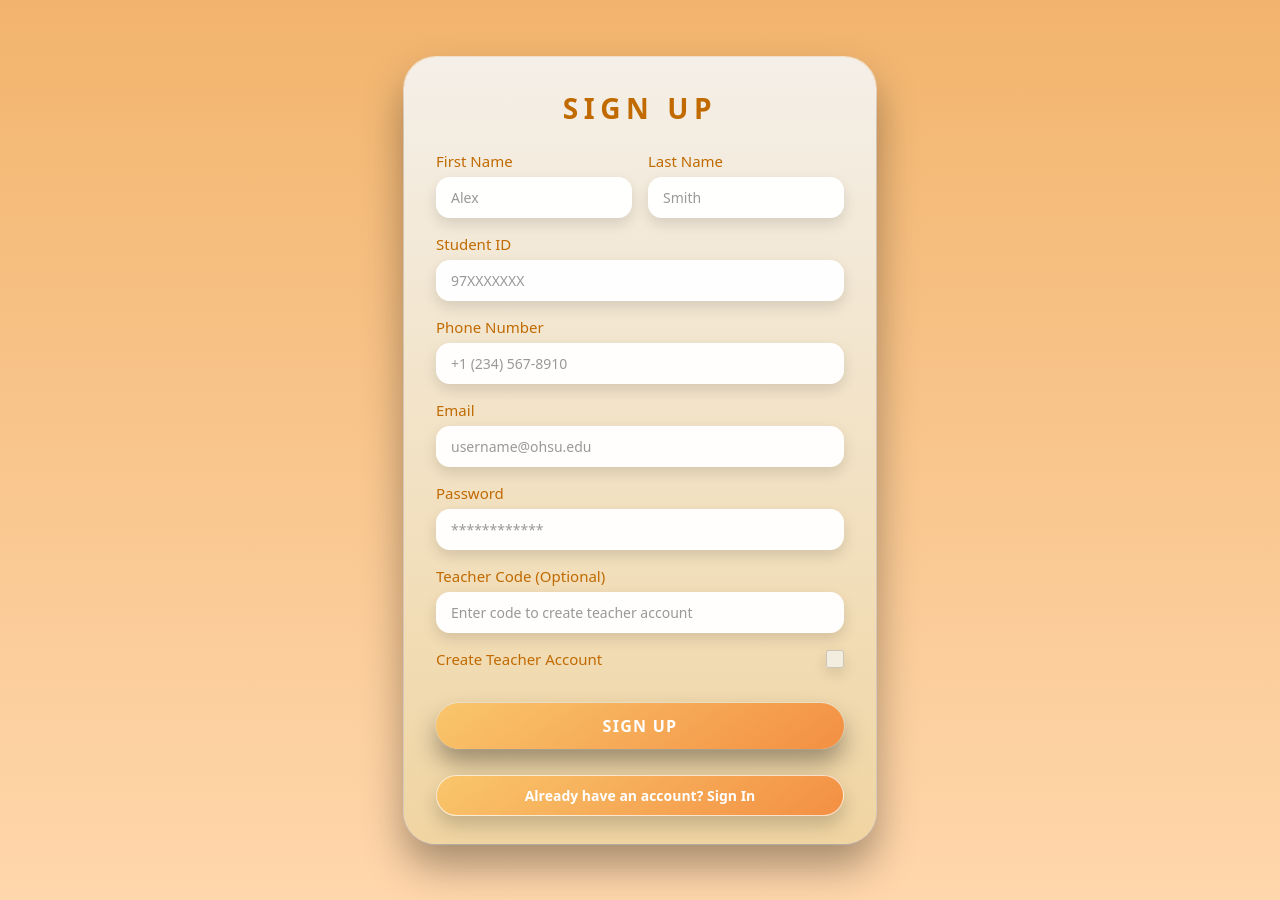
it: SignUpPage › shows teacher code error when clicking checkbox with wrong code
Note: Enter wrong teacher code
Type "wrongcode" into the field labelled "Teacher Code (Optional)" at (640, 612), box [436,592,844,632]
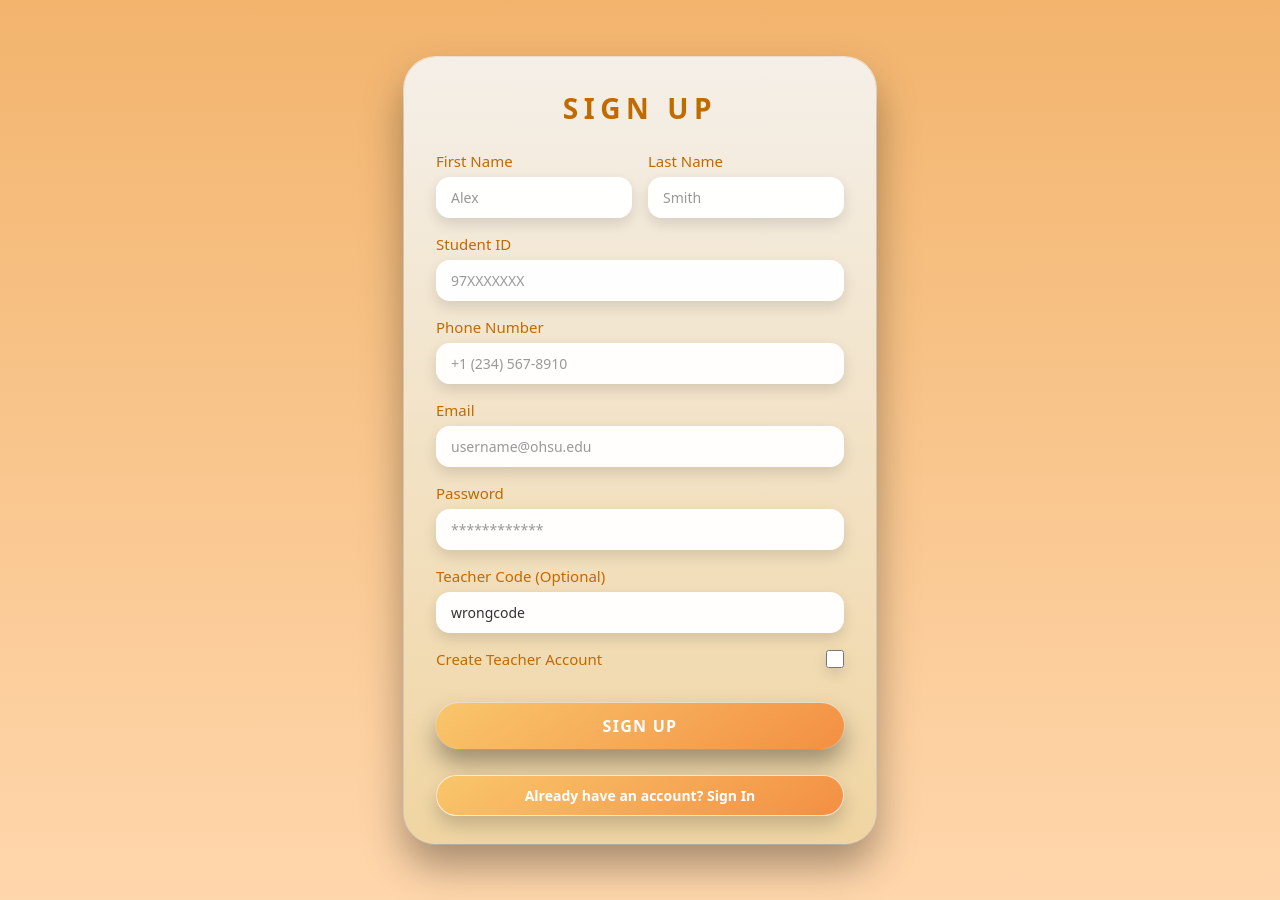
Click the checkbox labelled "Create Teacher Account" at (835, 658), box [826,650,844,668]
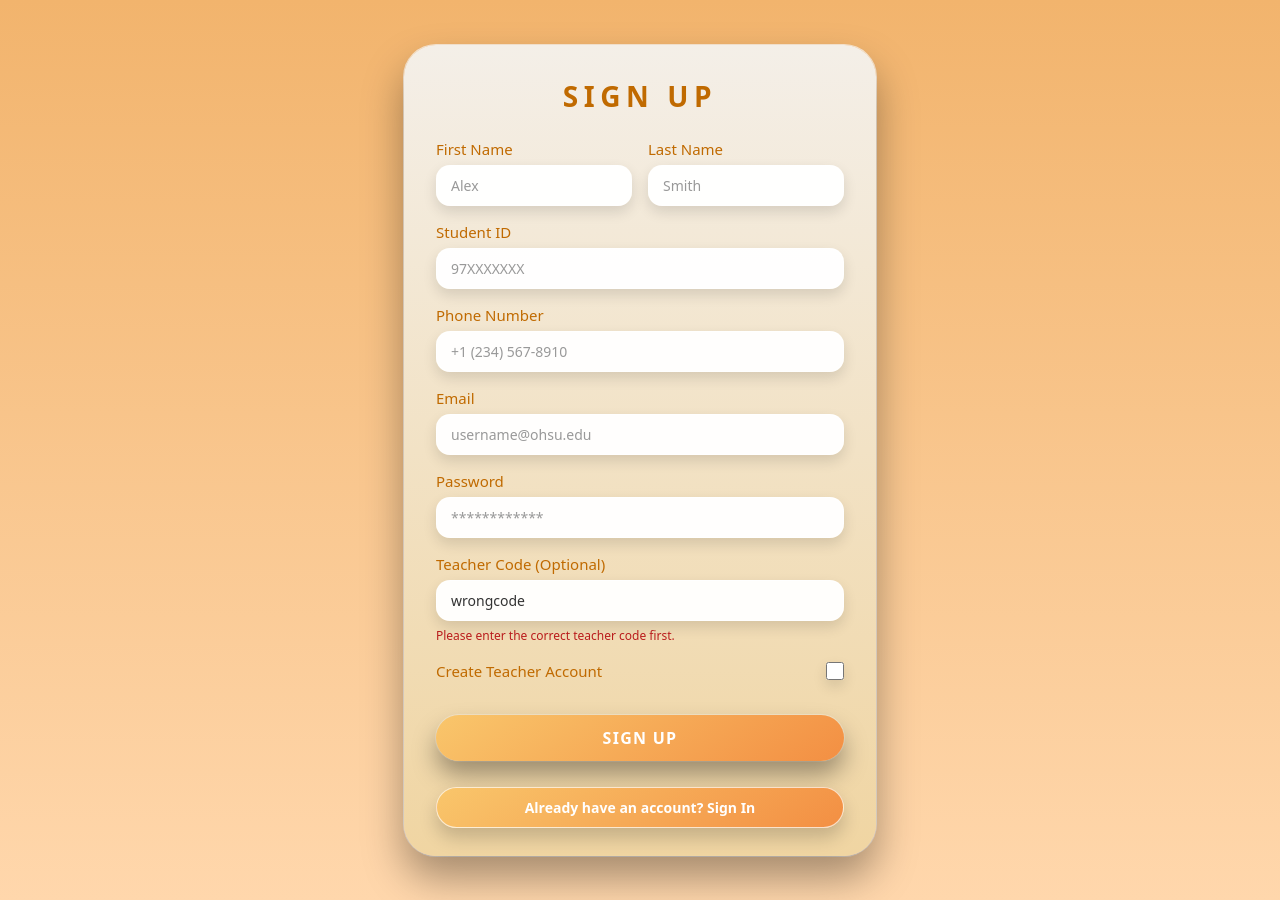
Check: the checkbox labelled "Create Teacher Account" is not checked, box [826,662,844,680]
Check: the text "Please enter the correct teacher code first." is shown, box [436,626,675,644]
